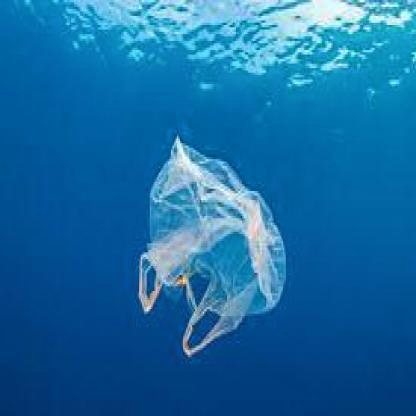pbag: (138, 134, 288, 362)
